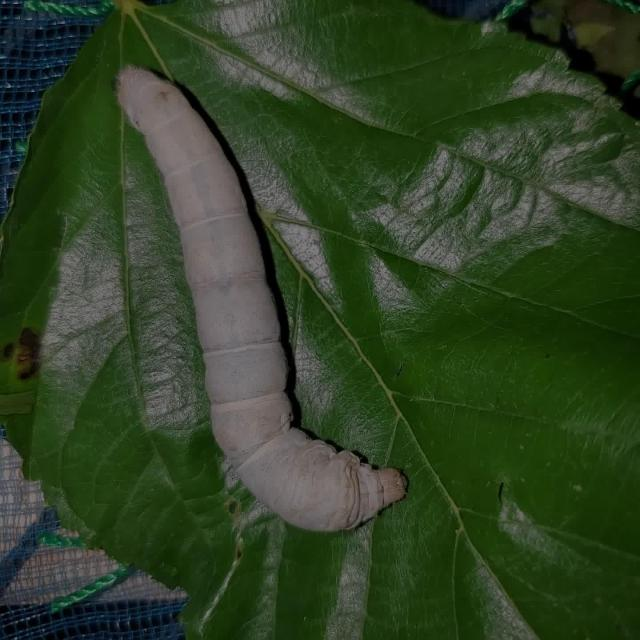Healthy: (97, 34, 432, 551)
